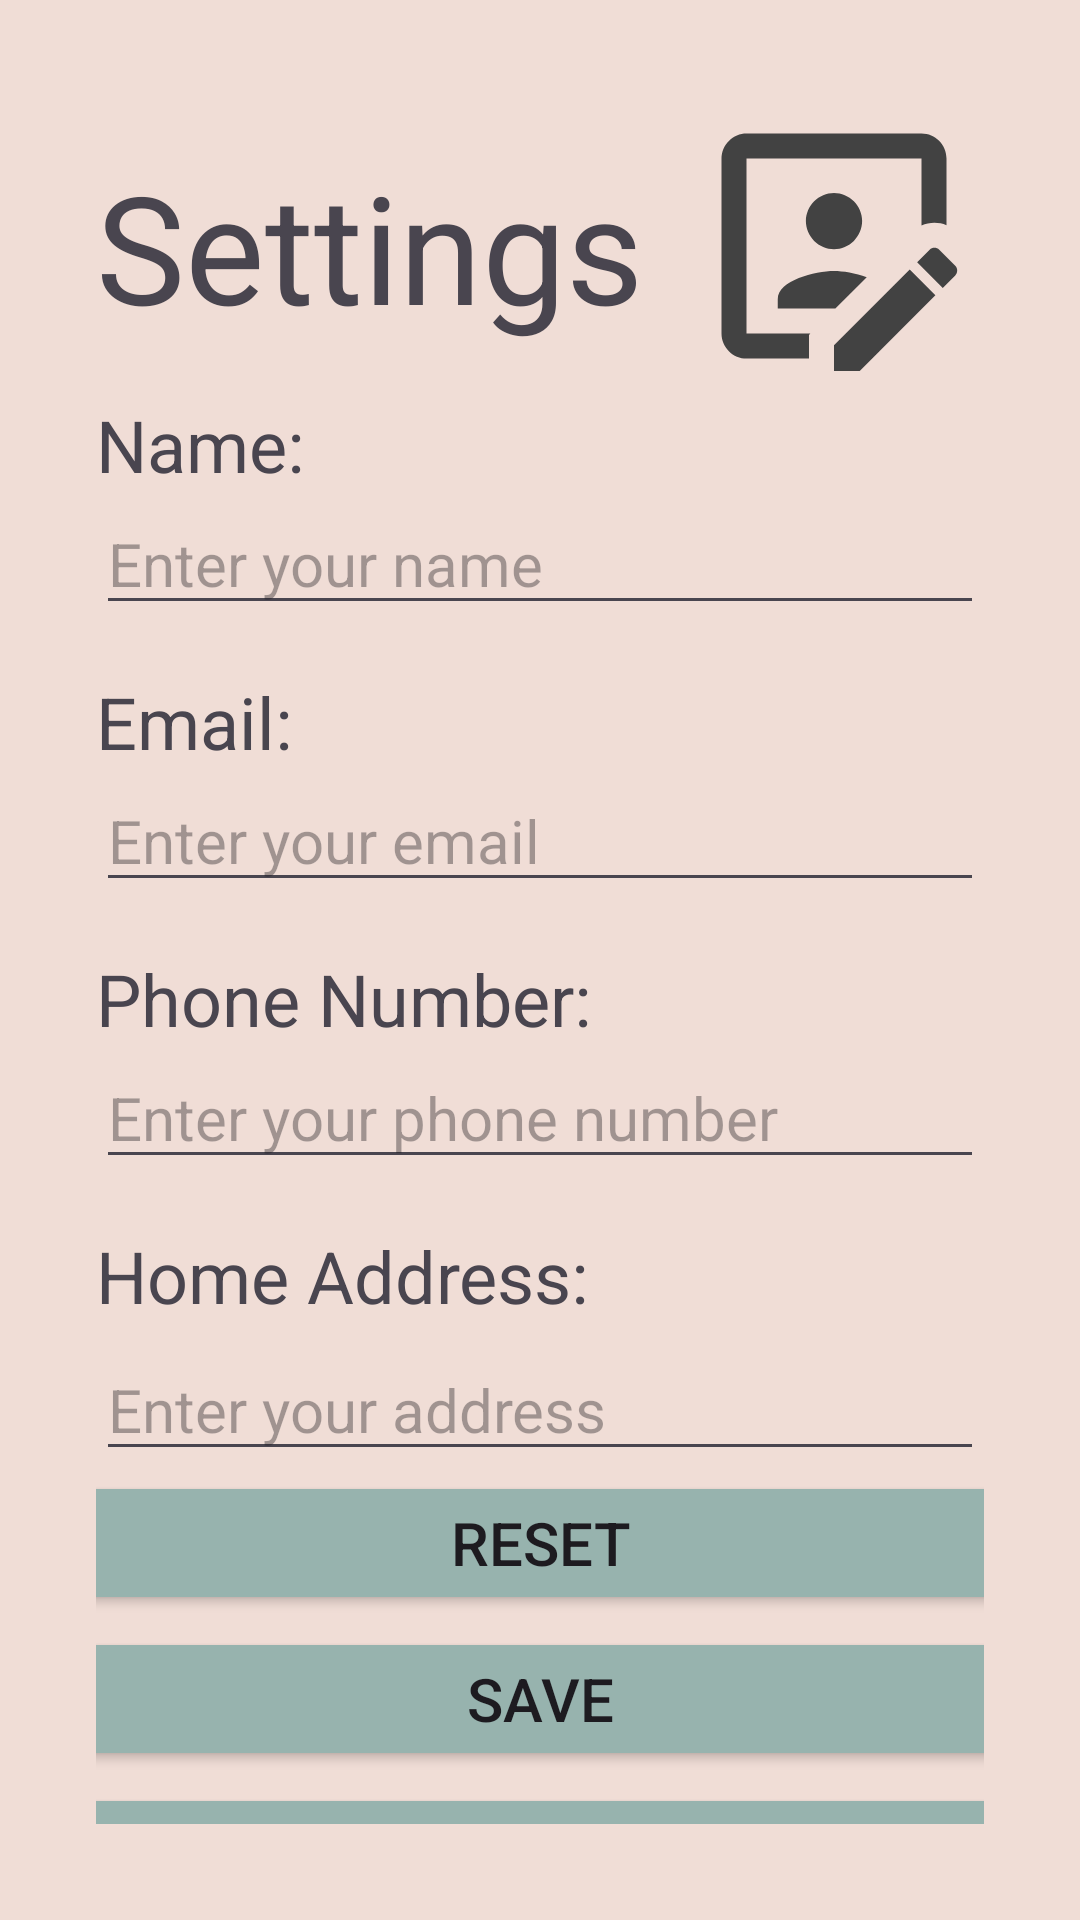

Screen size 1080px x 1920px. Icon name, then its box in pixels as (x1, y1, x2, y2):
User Icon: (721, 133, 958, 371)
